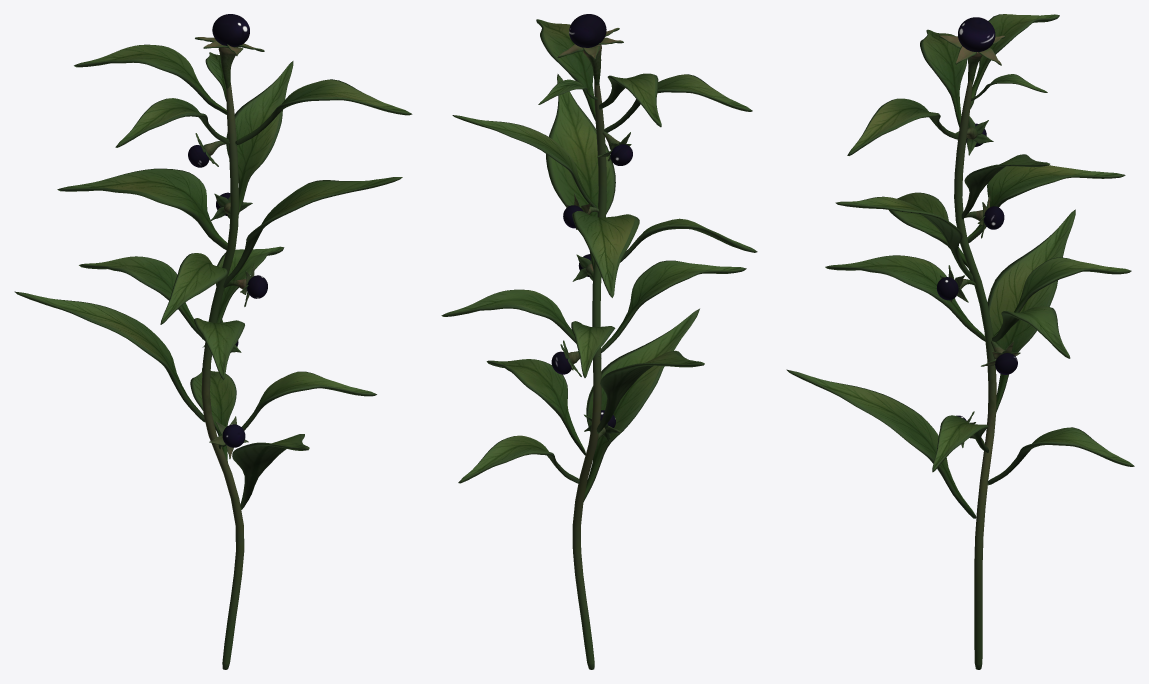
The model's file is atropa_belladonna.glb.
3 renders of one model, left to right at view 1: azimuth 30°, elevation 25°; view 2: azimuth 150°, elevation 25°; view 3: azimuth 270°, elevation 25°, orthographic.
Parts seen in each view (by area): view 1: pCylinder2; view 2: pCylinder2; view 3: pCylinder2.
Boxes of the visible parts, x1,y1,x2,y2 form: pCylinder2: [14, 14, 412, 669]; pCylinder2: [441, 14, 757, 669]; pCylinder2: [786, 14, 1134, 669].
Size of the model in its own units: 15.71 by 33.64 by 16.32.
Materials: 1 (1 with a texture image).
